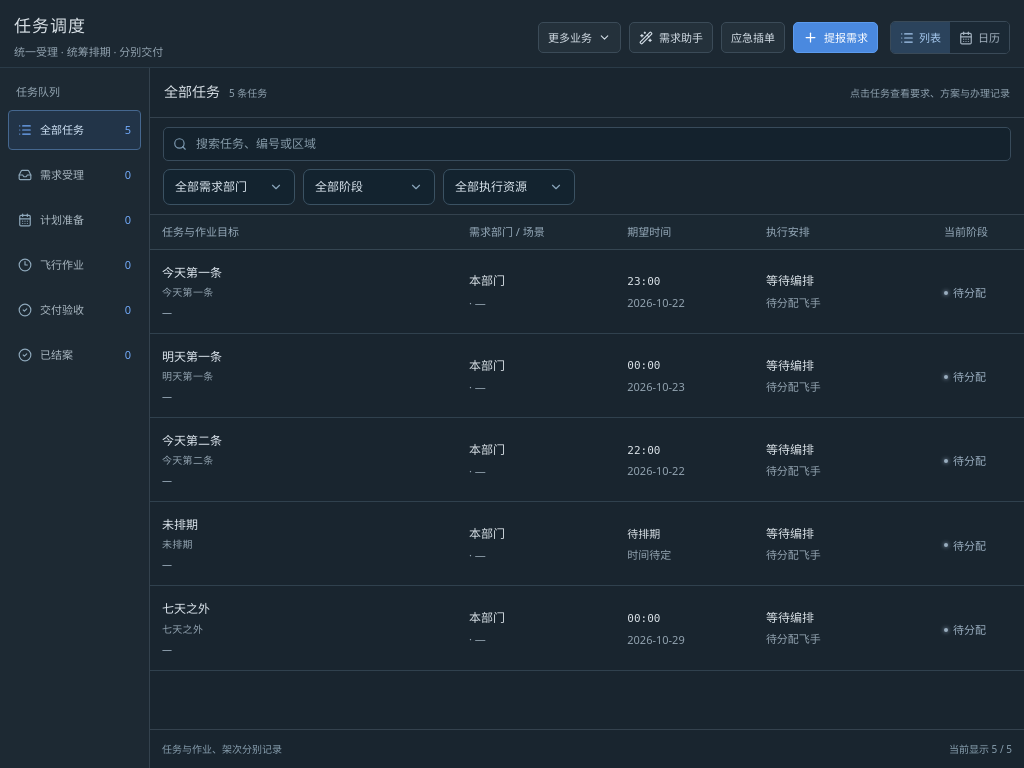
Test case: 任务日历的上海日期与排期视图 › 按上海日期显示整月排期，未排期任务不进入日历
Expected: the 1st text "未排期" is shown, [162,515,198,534]
Click the button "日历". click: {"x": 980, "y": 38}
box: [950,22,1009,53]
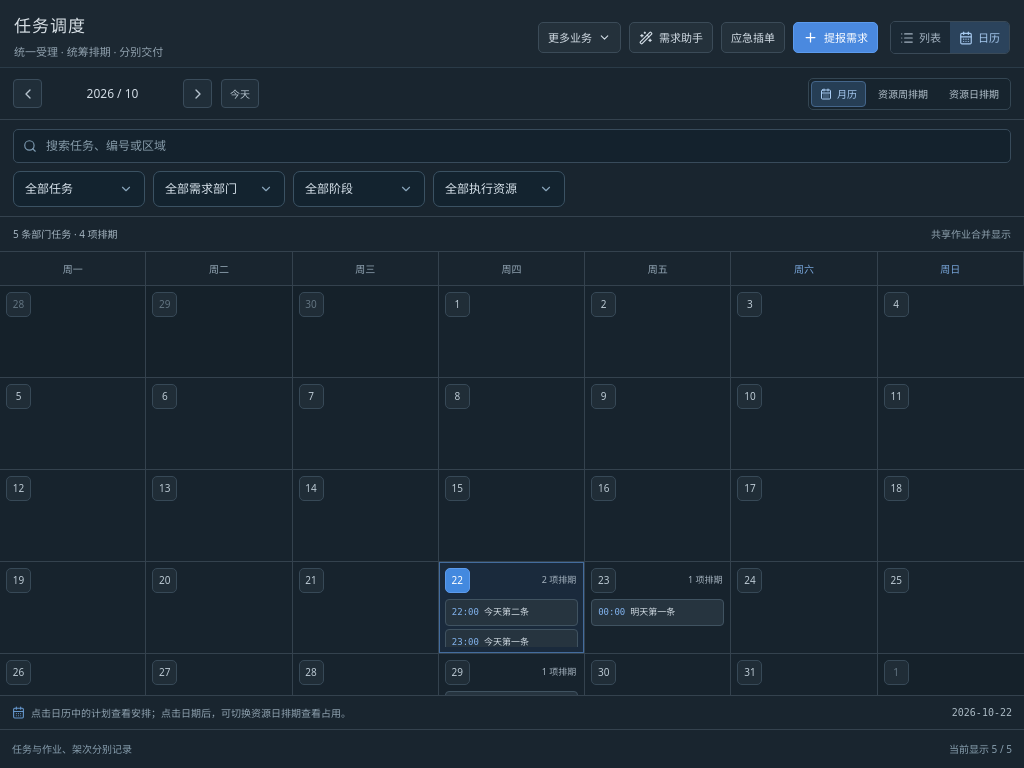
Expected: the number of cells with class "task-month-cell" is 35
Expected: the text "2026 / 10" is shown, [86,85,138,102]
Expected: the text "未排期" is gone
Click the button "23:00 今天第一条". click: {"x": 511, "y": 643}
box: [445,629,578,656]
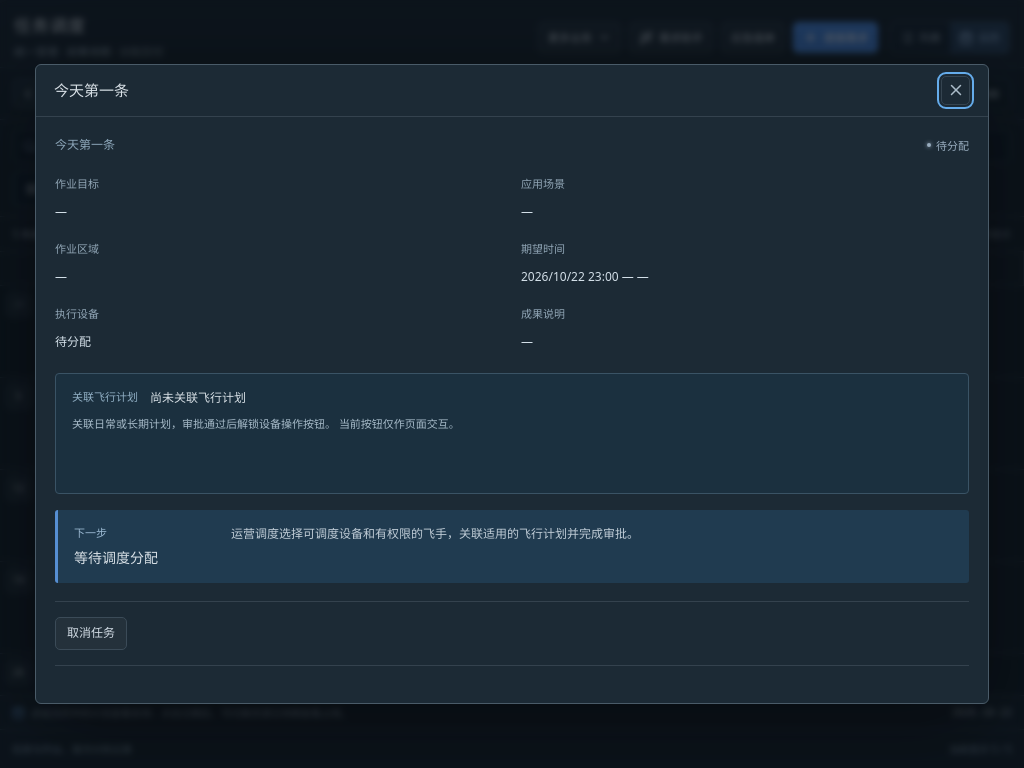
Expected: the dialog "今天第一条" is shown
